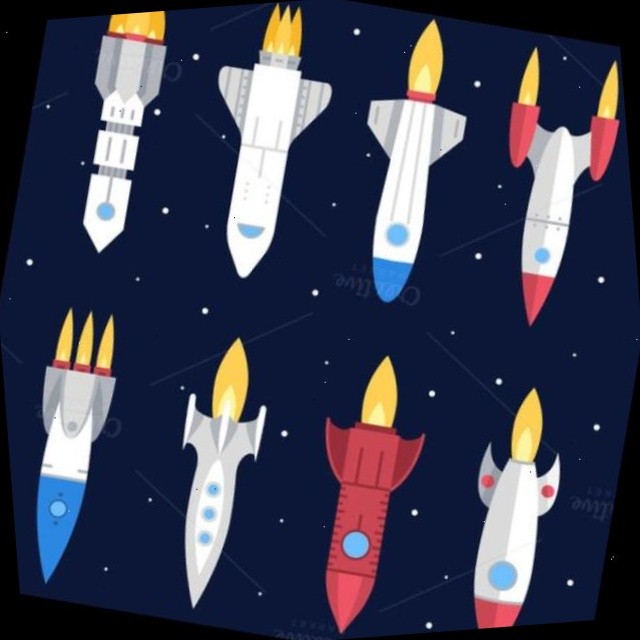rocket: (165, 37, 350, 297), (455, 91, 638, 353), (316, 75, 485, 322), (274, 404, 445, 640), (131, 382, 294, 628), (42, 19, 191, 267), (2, 348, 138, 602), (426, 431, 583, 632)
